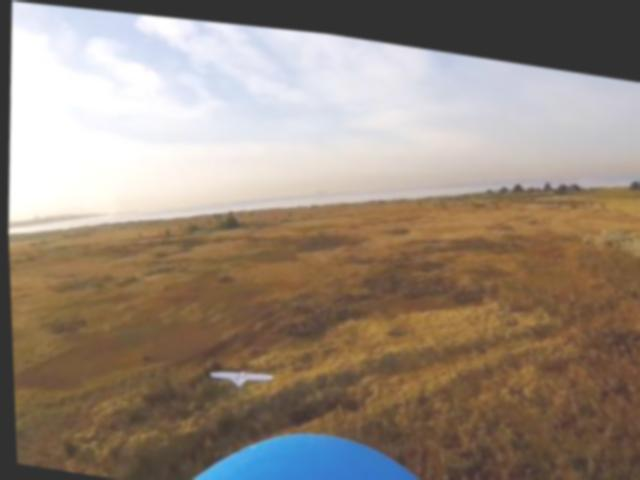uav: (205, 358, 275, 389)
